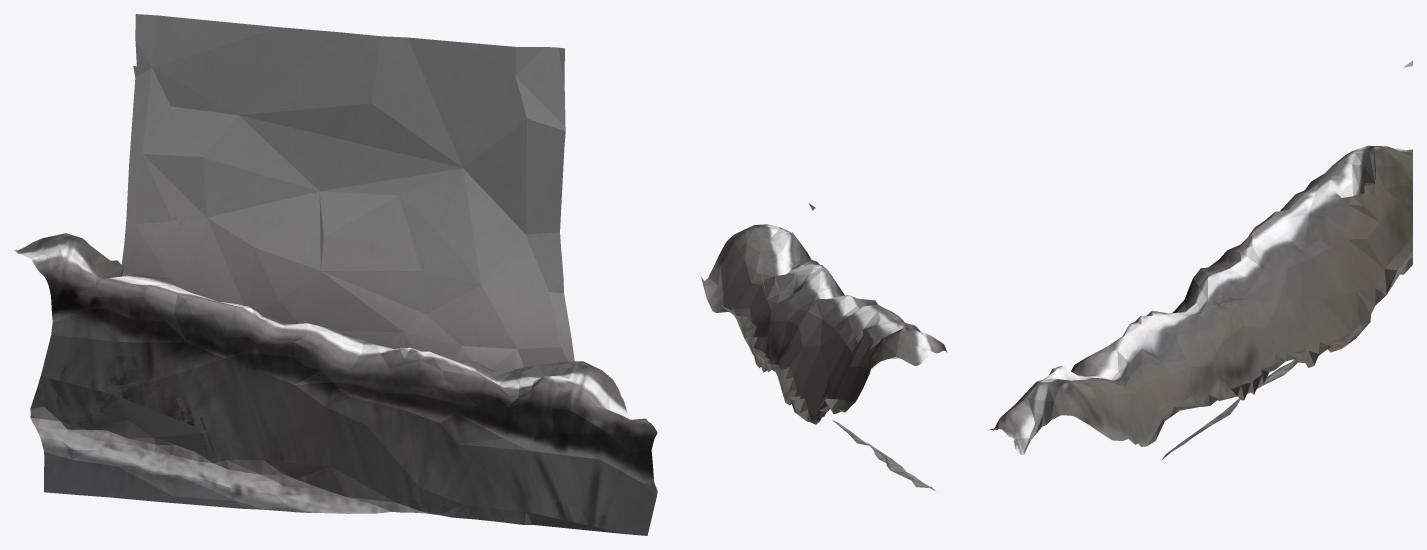
3 renders of one model, left to right at view 1: azimuth 30°, elevation 25°; view 2: azimuth 150°, elevation 25°; view 3: azimuth 270°, elevation 25°, orthographic. The views are drawn at different scales.
Bounding box in the file's own units: 0.8374 × 0.8373 × 0.8374.
4 materials, 4 textured.
